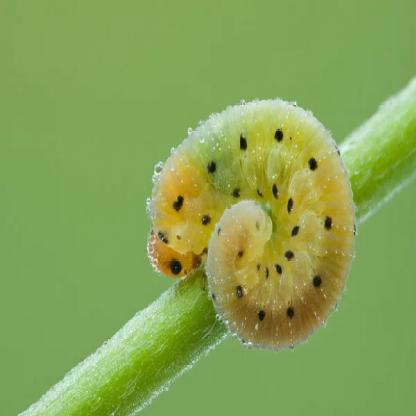sawfly: (146, 96, 360, 360)
